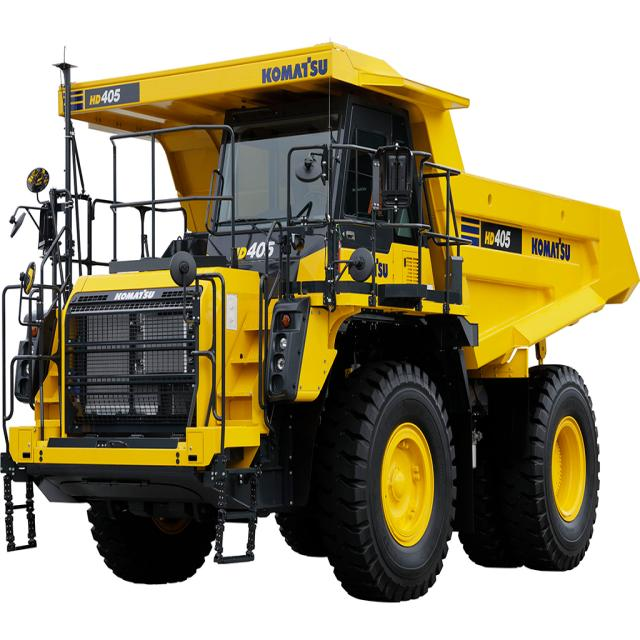dump_truck: (8, 45, 636, 597)
